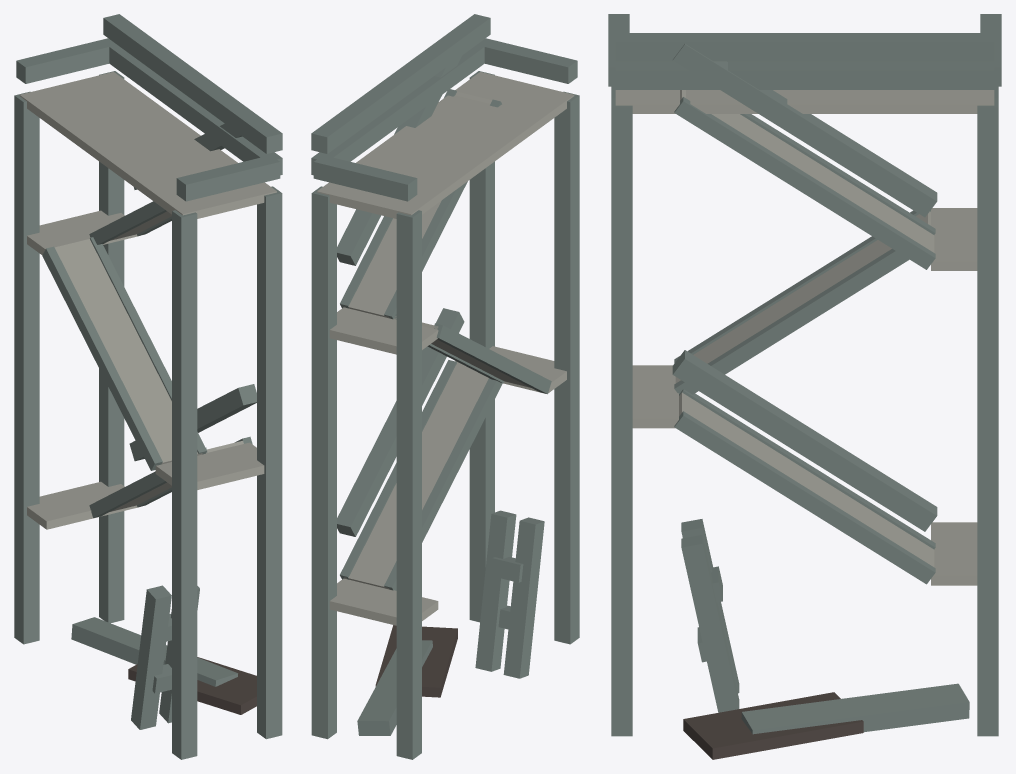
Rendered from SM_EscaleraAzotea_v4_Danada_LOD1.fbx.
The picture shows the model from 3 angles, left to right: view 1: azimuth 30°, elevation 25°; view 2: azimuth 150°, elevation 25°; view 3: azimuth 270°, elevation 25°; orthographic projection. The views are drawn at different scales.
Visible parts, largest first — view 1: SM_escalera_azotea_v4_LOD1; view 2: SM_escalera_azotea_v4_LOD1; view 3: SM_escalera_azotea_v4_LOD1.
Part boxes in pixels (left/top/right/bottom): SM_escalera_azotea_v4_LOD1: left=14, top=14, right=282, bottom=759; SM_escalera_azotea_v4_LOD1: left=311, top=14, right=579, bottom=759; SM_escalera_azotea_v4_LOD1: left=608, top=14, right=1001, bottom=759.
Bounding box in the file's own units: 3.03 × 12.27 × 6.24.
